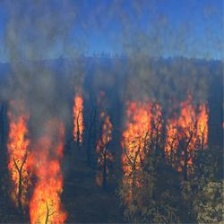fire: (4, 92, 213, 224)
